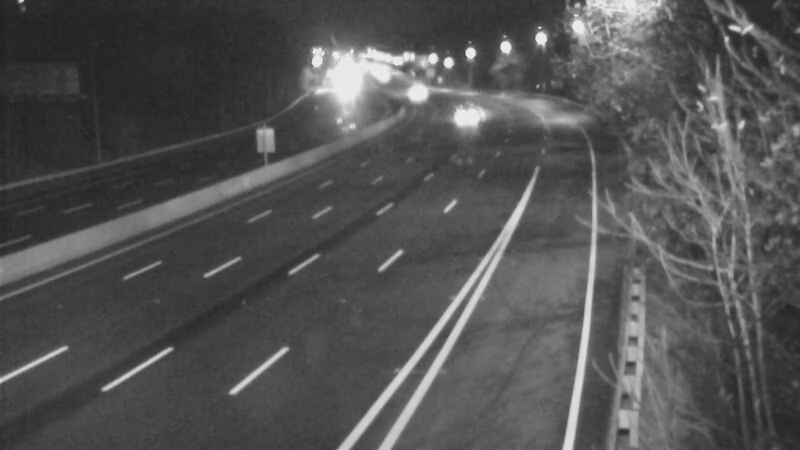vehicle: (395, 71, 445, 121), (444, 91, 494, 141)
